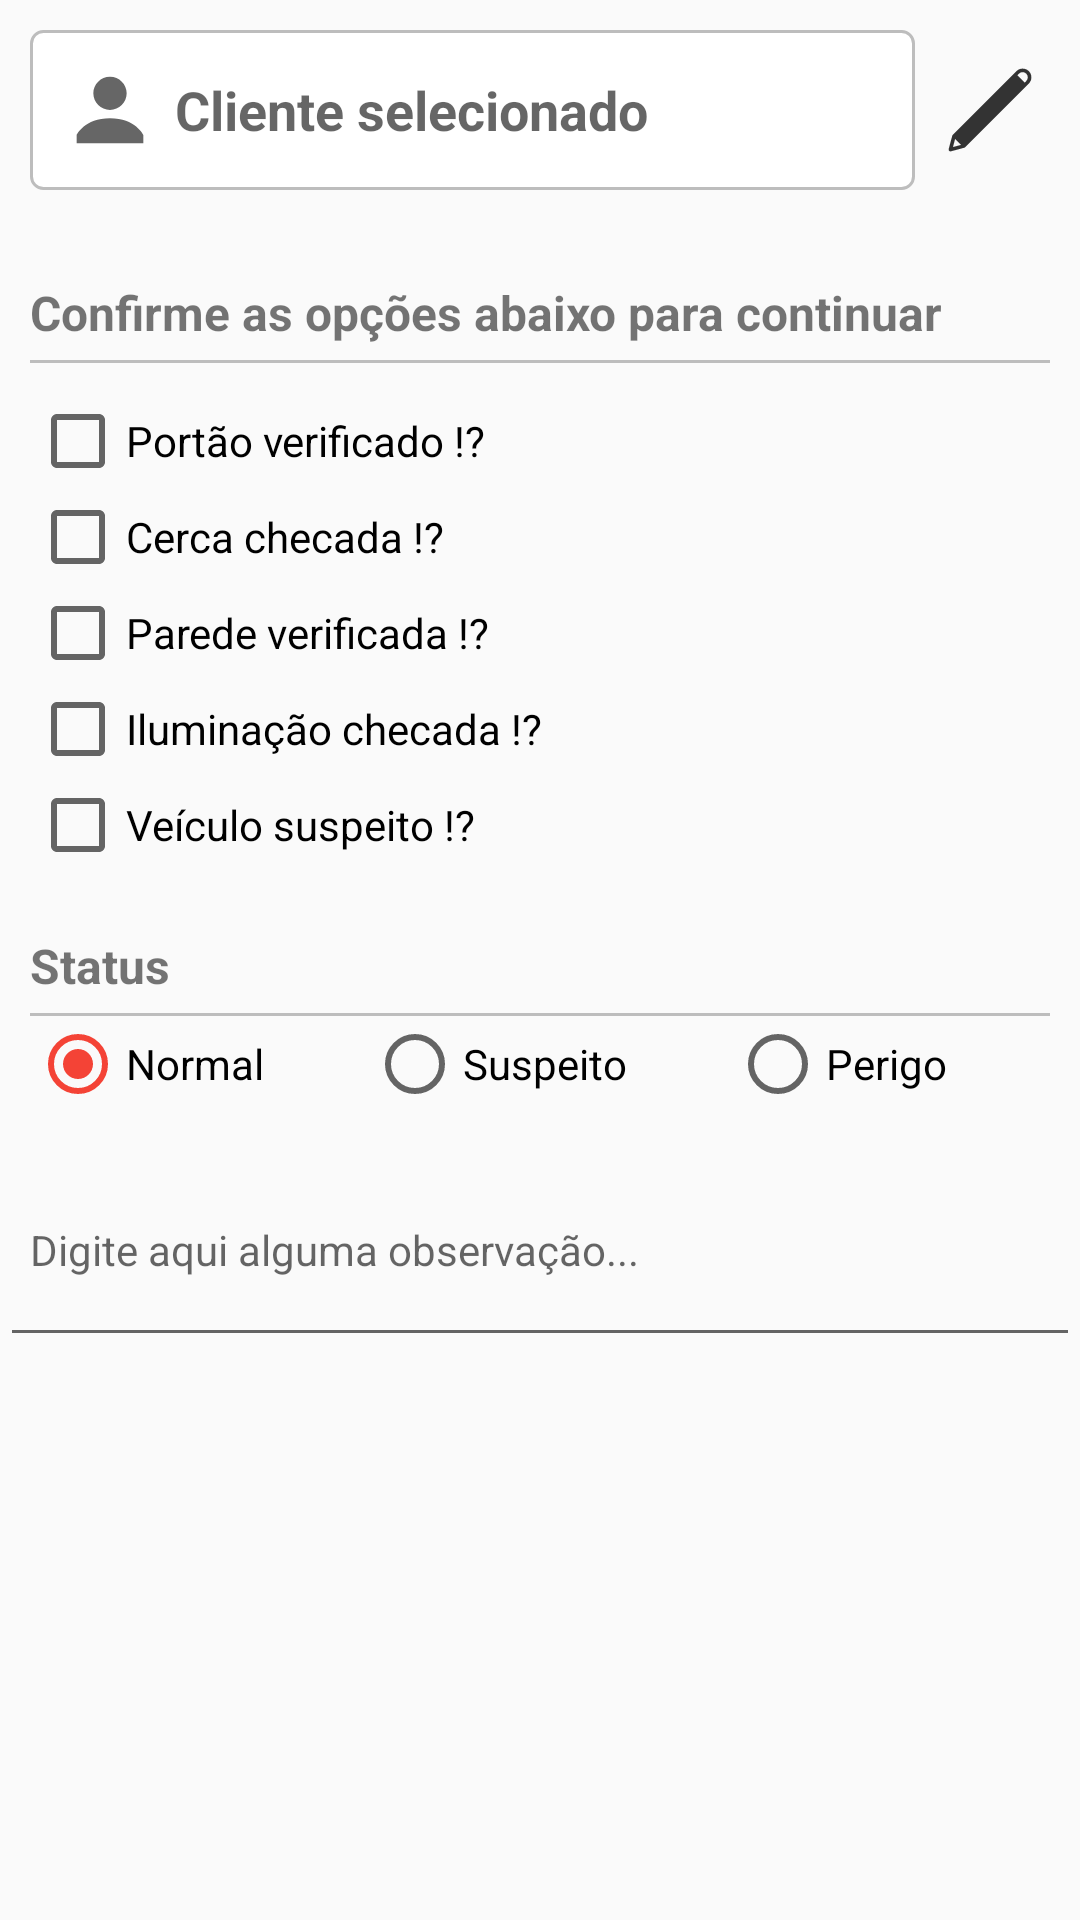

Point at icon controls on the screen. Image size 1080w x 1920h, points as [x,y].
edit: [990,110]
